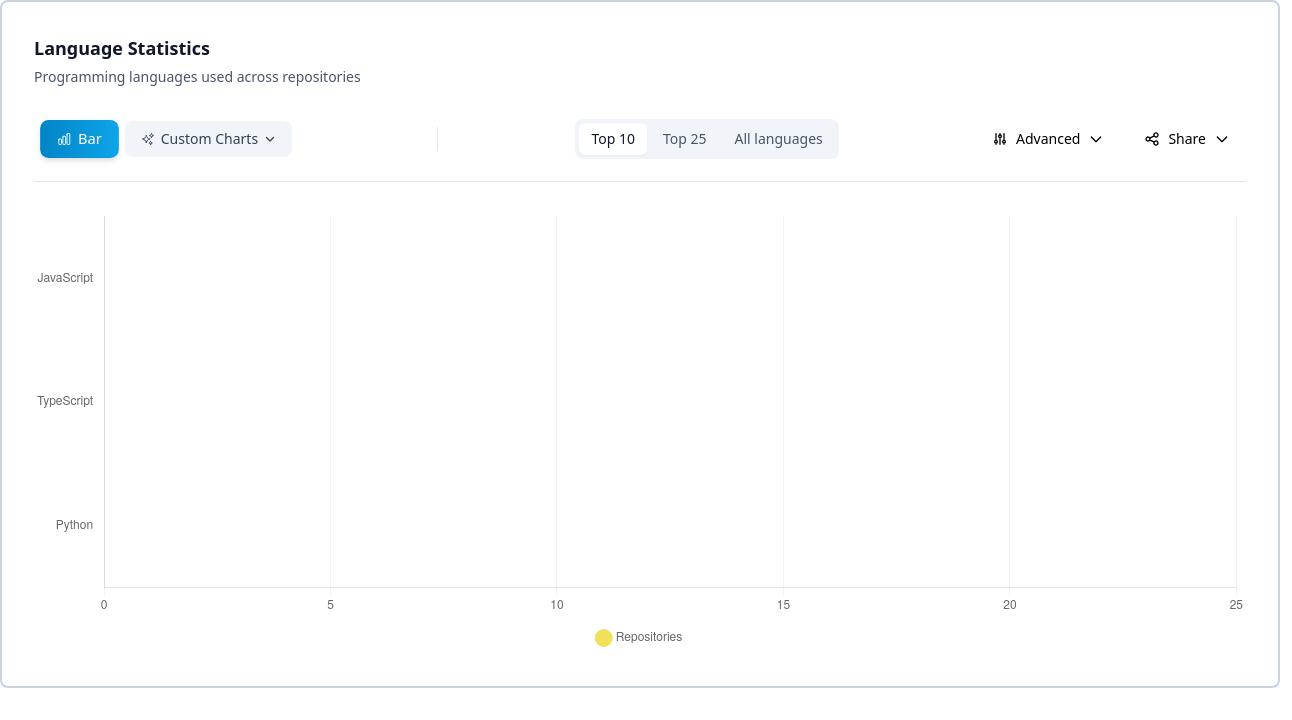
Test: ChartPanel › Copy URL functionality › shows error toast when copying URL fails
The width and height of the screenshot is (1292, 720).
// Open dropdown
Click the button "Share".
click(1187, 139)  # box [1128,121,1246,157]
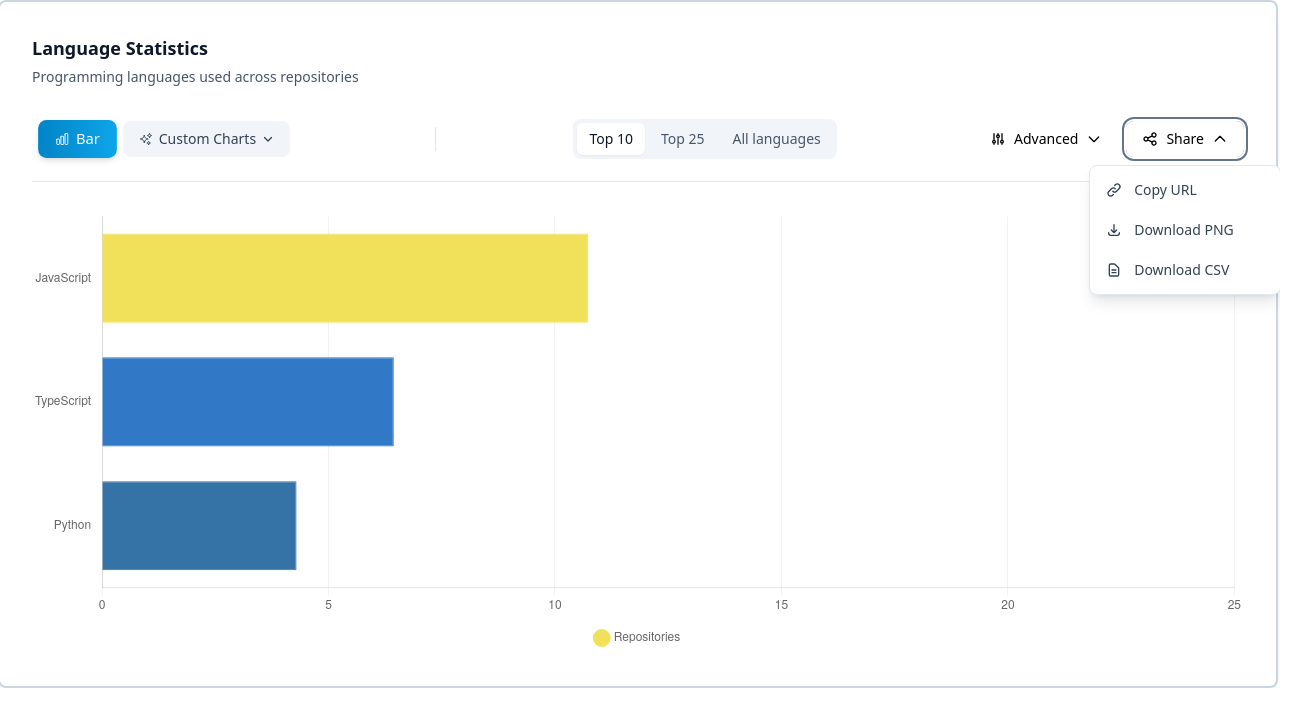
// Click Copy URL
Click the menu item "Copy URL".
click(1185, 190)  # box [1090,170,1280,210]
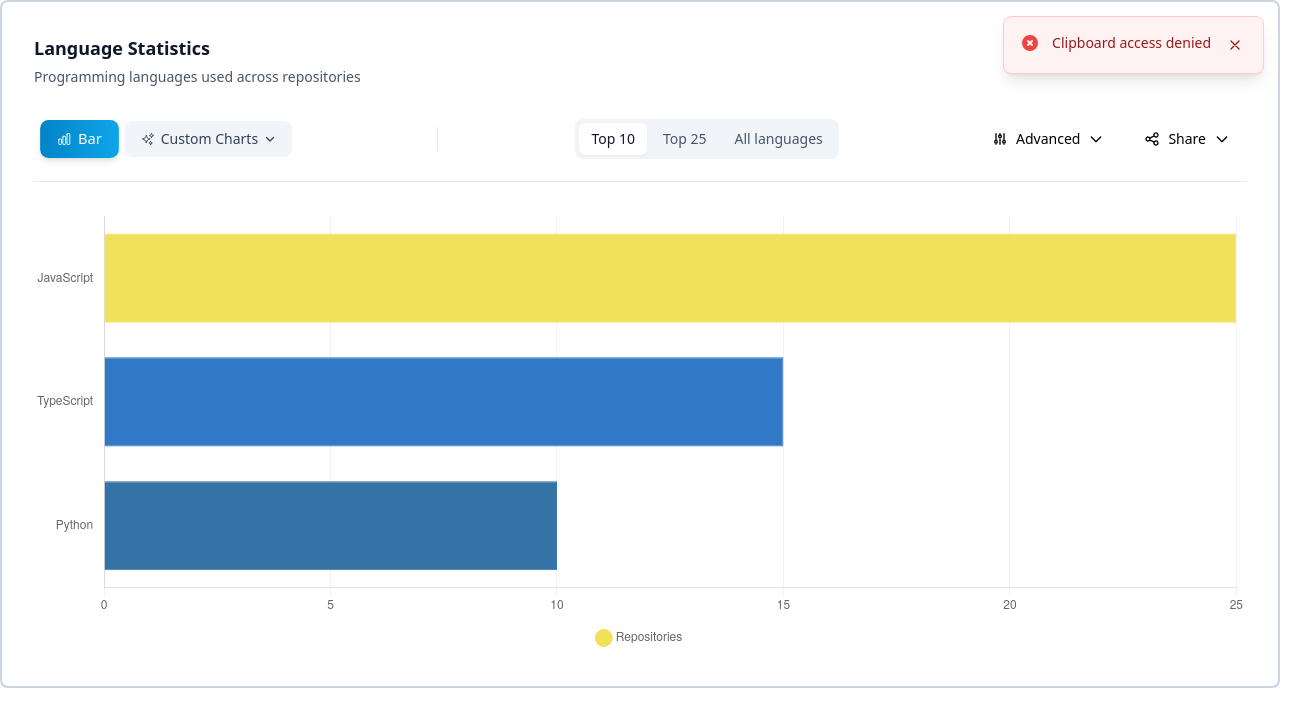
Now the text "Clipboard access denied" is shown, box [1052,33,1211,53]
